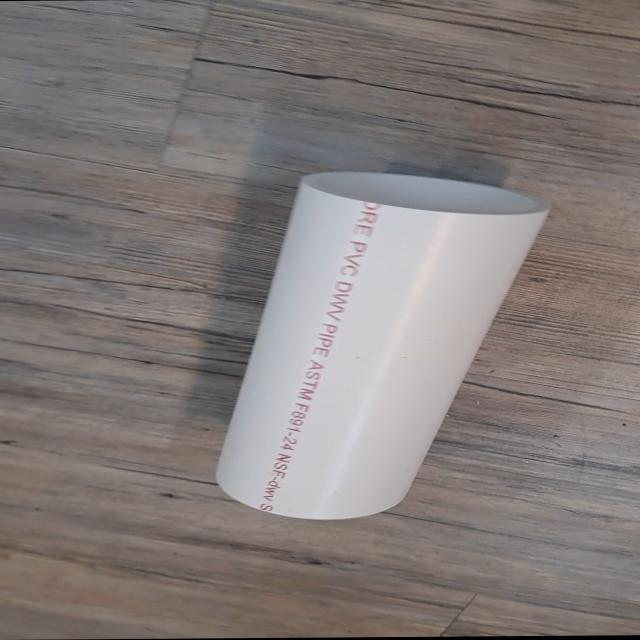CORAL: (156, 142, 579, 535)
